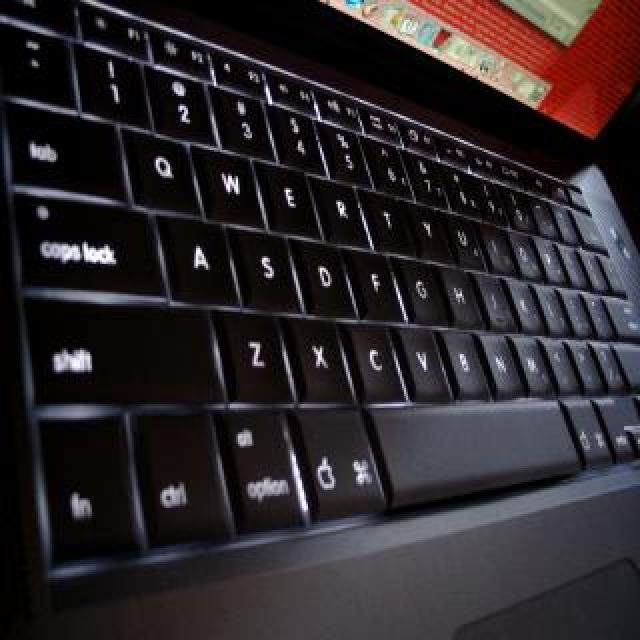laptop_computer: (21, 10, 633, 639)
